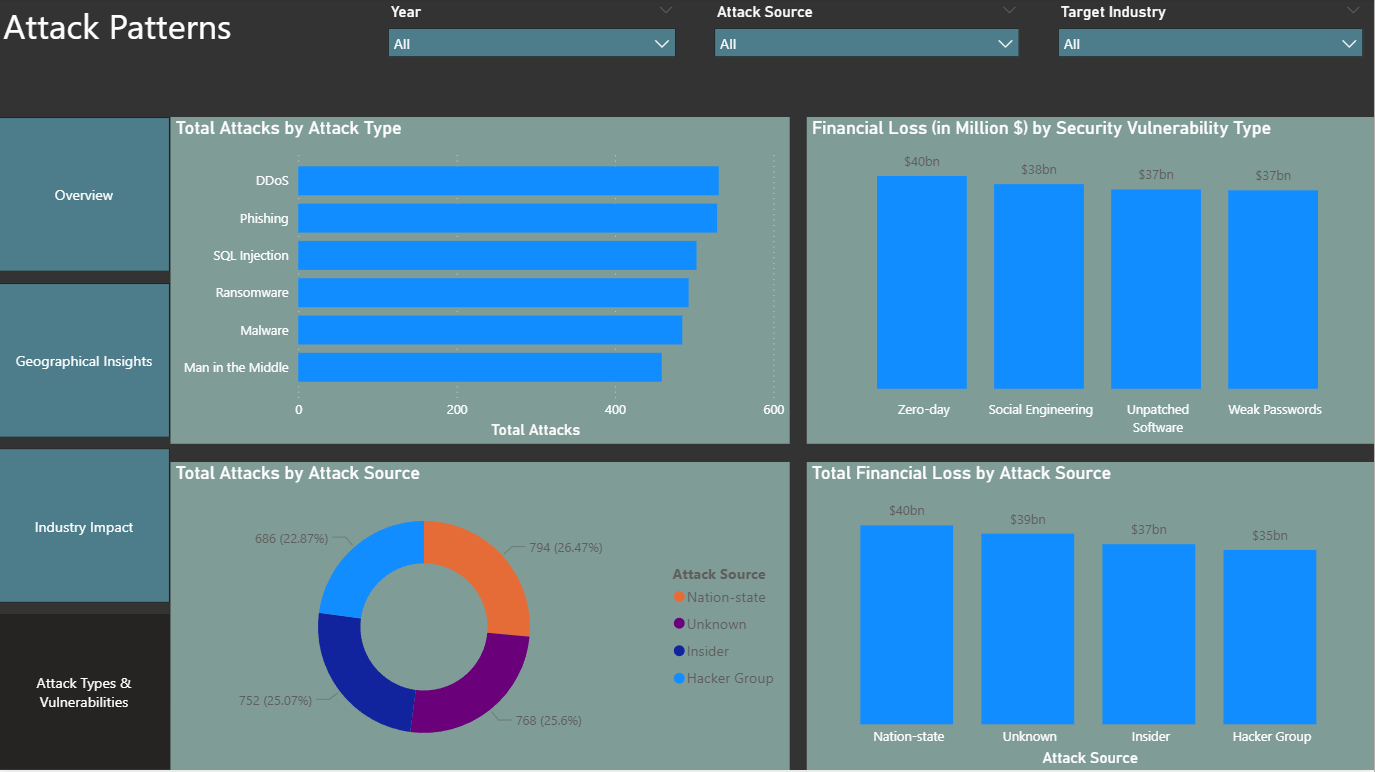

The page's visual inventory and layout, read from the dashboard file:
{"tool":"powerbi","page":{"name":"Attack Types & Vulnerabilities","canvas":[1280,720],"ordinal":3},"visuals":[{"type":"clusteredBarChart","fields":{"Category":["Cyber Security.Attack Type"],"Y":["Cyber Security.Total Attacks"]},"box":[160,112,576,304],"z":0},{"type":"clusteredColumnChart","fields":{"Category":["Cyber Security.Security Vulnerability Type"],"Y":["Sum(Cyber Security.Financial Loss (in Million $))"]},"box":[752,112,528,304],"z":1000},{"type":"donutChart","fields":{"Category":["Cyber Security.Attack Source"],"Y":["Cyber Security.Total Attacks"]},"box":[160,432,576,288],"z":2000},{"type":"clusteredColumnChart","fields":{"Category":["Cyber Security.Attack Source"],"Y":["Cyber Security.Total Financial Loss"]},"box":[752,432,528,288],"z":3000},{"type":"pageNavigator","box":[0,112,160,608],"z":4000},{"type":"slicer","fields":{"Values":["Cyber Security.Year"]},"box":[352,0,288,96],"z":5000},{"type":"slicer","fields":{"Values":["Cyber Security.Attack Source"]},"box":[656,0,304,96],"z":6000},{"type":"slicer","fields":{"Values":["Cyber Security.Target Industry"]},"box":[976,0,304,96],"z":7000},{"type":"textbox","box":[0,0,304,96],"z":8000}]}

Visuals, with their boxes in screenshot pixels (x1, y1, x2, y2), scaled from the page's 1280x720 canvas onto the 1375x772 screenshot:
clusteredBarChart - Cyber Security.Attack Type x Cyber Security.Total Attacks: region(172, 120, 791, 446)
clusteredColumnChart - Cyber Security.Security Vulnerability Type x Sum(Cyber Security.Financial Loss (in Million $)): region(808, 120, 1374, 446)
donutChart - Cyber Security.Attack Source x Cyber Security.Total Attacks: region(172, 463, 791, 771)
clusteredColumnChart - Cyber Security.Attack Source x Cyber Security.Total Financial Loss: region(808, 463, 1374, 771)
pageNavigator: region(0, 120, 172, 771)
slicer - Cyber Security.Year: region(378, 0, 688, 103)
slicer - Cyber Security.Attack Source: region(705, 0, 1031, 103)
slicer - Cyber Security.Target Industry: region(1048, 0, 1374, 103)
textbox: region(0, 0, 327, 103)
